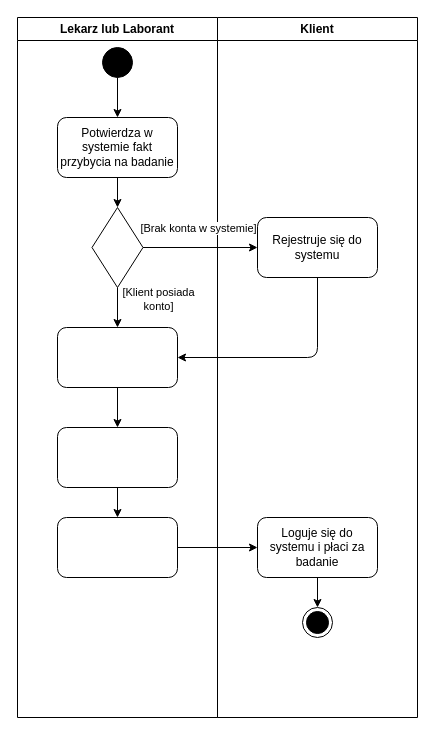
This 435x735 diagram has some shape labels left out. Here are the shapes that lost their labels. From the top down, the centre of each, then its label:
the point at 117,357: Przeglądanie informacji o pacjencie i historii jego badań
the point at 117,457: Przeprowadza badanie i zapisuje wyniki
the point at 117,547: Aktualizuje plan leczenia pacjenta
